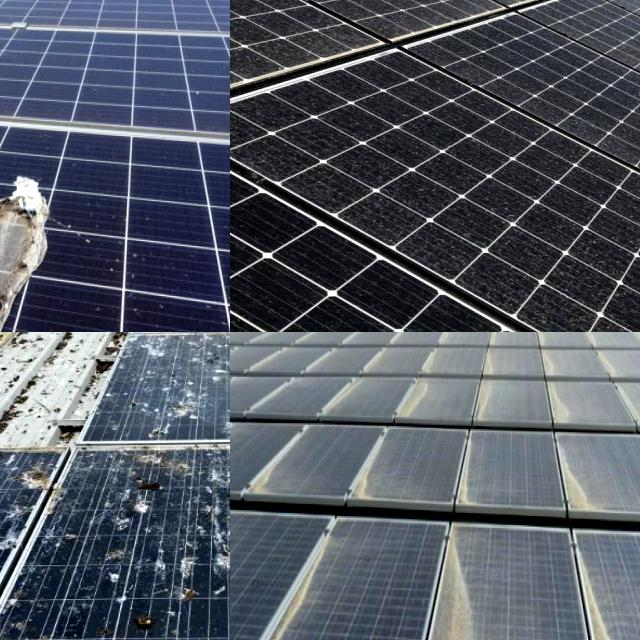bird: (0, 146, 69, 332), (0, 453, 68, 525), (162, 448, 230, 513), (156, 366, 230, 424), (0, 478, 32, 585), (88, 596, 165, 640), (190, 529, 230, 613)
dust: (285, 104, 427, 244), (490, 71, 640, 195), (242, 520, 395, 640), (409, 530, 550, 640), (466, 227, 612, 332), (231, 364, 325, 504), (450, 362, 534, 516), (350, 376, 440, 514), (547, 384, 631, 514), (233, 287, 427, 332), (563, 535, 640, 640), (230, 0, 373, 46), (230, 517, 274, 640), (407, 0, 522, 46), (538, 332, 627, 381), (401, 332, 505, 371), (230, 379, 270, 480), (283, 332, 378, 371), (230, 332, 280, 372)
